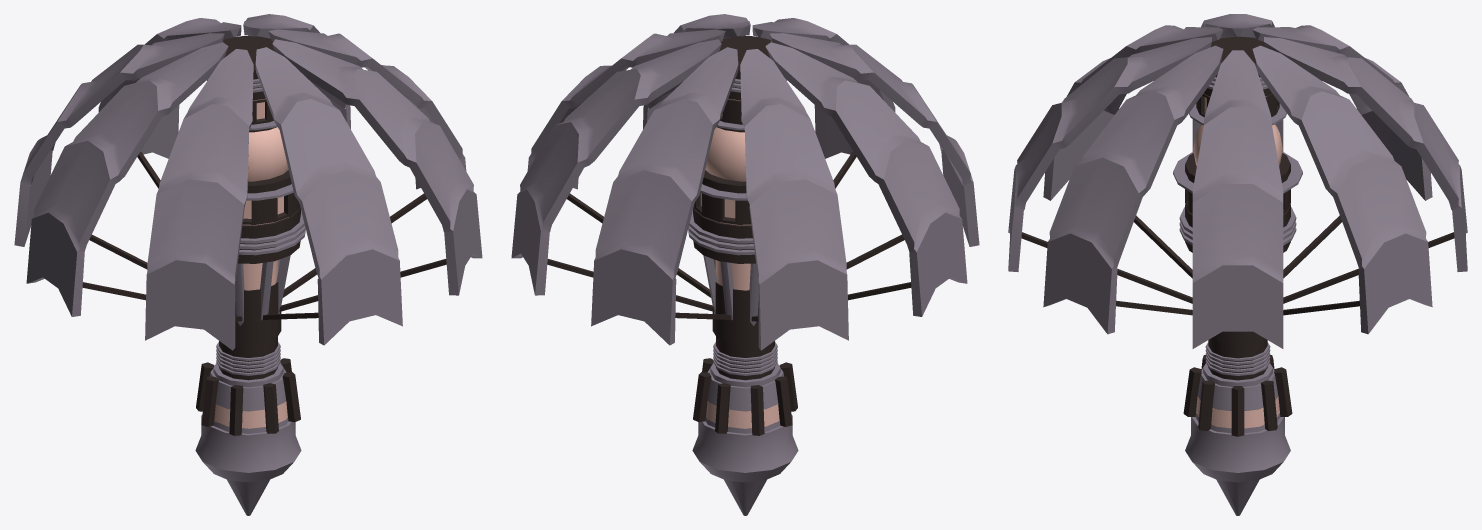
Rendered from Core.fbx.
3 renders of one model, left to right at view 1: azimuth 30°, elevation 25°; view 2: azimuth 150°, elevation 25°; view 3: azimuth 270°, elevation 25°, orthographic.
Visible parts, largest first — view 1: Cube.081, Cylinder.063; view 2: Cube.081, Cylinder.063; view 3: Cube.081, Cylinder.063.
Part boxes in pixels (left/top/right/bottom): Cube.081: left=14, top=14, right=482, bottom=515; Cylinder.063: left=214, top=98, right=288, bottom=428; Cube.081: left=511, top=14, right=979, bottom=515; Cylinder.063: left=700, top=98, right=779, bottom=428; Cube.081: left=1008, top=14, right=1467, bottom=515; Cylinder.063: left=1193, top=96, right=1282, bottom=428.
Bounding box in the file's own units: 178 × 203 × 178.
